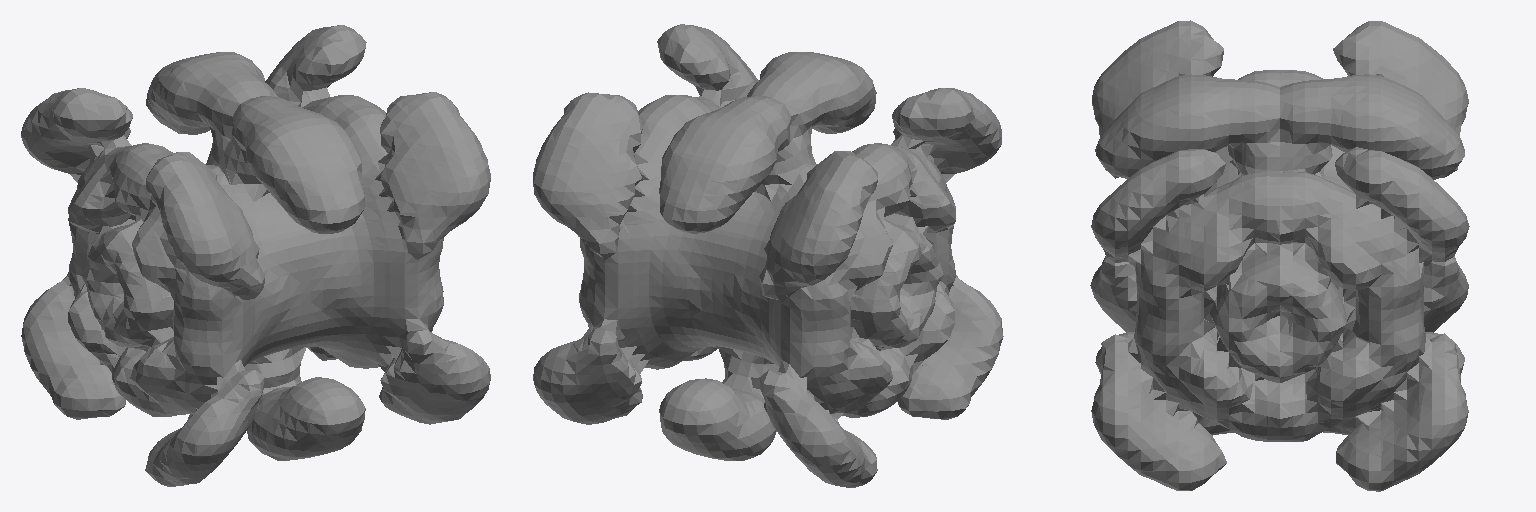
URDF robot description (cube.urdf):
<?xml version="0.0" ?> 
<robot name="cube.urdf"> 
<link name="legobrick"> 
<contact> 
<lateral_friction value="5.0"/> 
<rolling_friction value="0.0"/> 
<contact_cfm value="0.0"/> 
<contact_erp value="1.0"/> 
</contact> 
<inertial> 
<origin rpy="0 0 0" xyz="0.0 0.0 0.0"/> 
<mass value=".01"/> 
<inertia ixx="1" ixy="0" ixz="0" iyy="1" iyz="0" izz="1"/> 
</inertial> 
<visual> 
<origin rpy="1.570796 0 0" xyz="-0.02597334968731039 0.02593523451370738 -0.025930966554385097"/> 
<geometry> 
<mesh filename="Q24_2.obj" scale="0.000692066786178988 0.000692066786178988 0.000692066786178988"/> 
</geometry> 
<material name="yellow"> 
<color rgba="0.6 0.6 0.6 1"/> 
</material> 
</visual> 
<collision> 
<origin rpy="1.570796 0 0" xyz="-0.02597334968731039 0.02593523451370738 -0.025930966554385097"/> 
<geometry> 
<mesh filename="Q24_2.obj" scale="0.000692066786178988 0.000692066786178988 0.000692066786178988"/> 
</geometry> 
</collision> 
</link> 
</robot>

--- What the picture shows (computed from the rendered views, not written in the file) ---
Views: 3 orthographic renders of the robot side by side, from view 1: azimuth 30°, elevation 25°; view 2: azimuth 150°, elevation 25°; view 3: azimuth 270°, elevation 25°.
Model cube.urdf with 1 links and 0 joints (none), rooted at legobrick, posed all joints at 0.
Links seen in each view (by area): view 1: legobrick; view 2: legobrick; view 3: legobrick.
Boxes of the visible links, x1,y1,x2,y2 form: legobrick: (21, 25, 490, 486); legobrick: (533, 24, 1003, 487); legobrick: (1090, 20, 1469, 491).
Size in the robot's own frame: 0.0554 by 0.056 by 0.0563 metres.
1 mesh visuals loaded from 1 distinct referenced files (1 OBJ).
